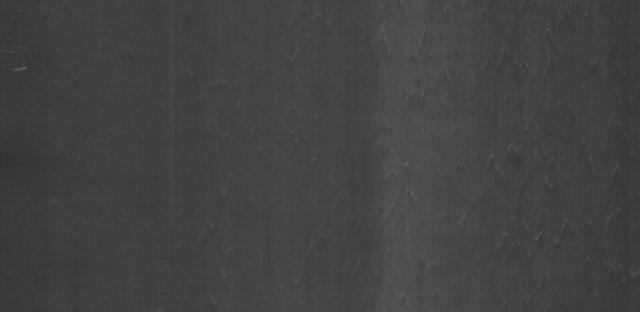silk_spot: (488, 111, 608, 196), (469, 207, 622, 272), (488, 11, 580, 86), (369, 23, 447, 92), (378, 158, 432, 210)
